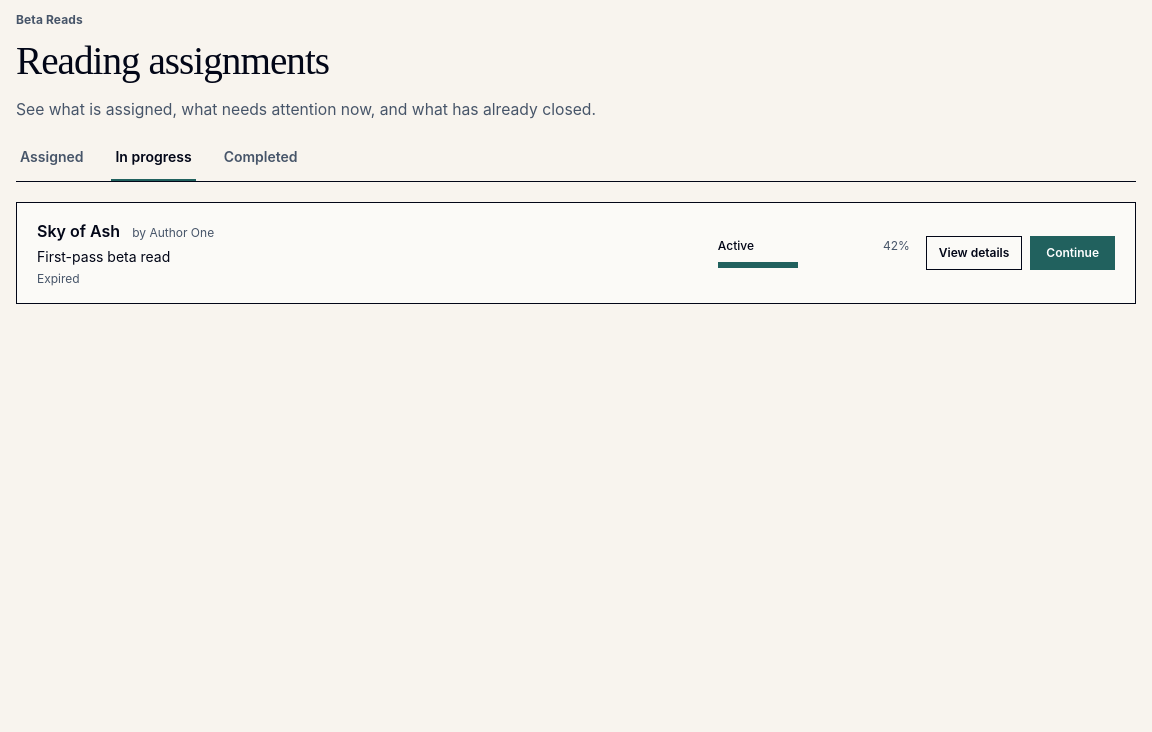
it: BetaReadsPage › shows author questions and the final-feedback completion gate on active assignments
Click the button "View details" at [974, 253], box [926,236,1022,270]
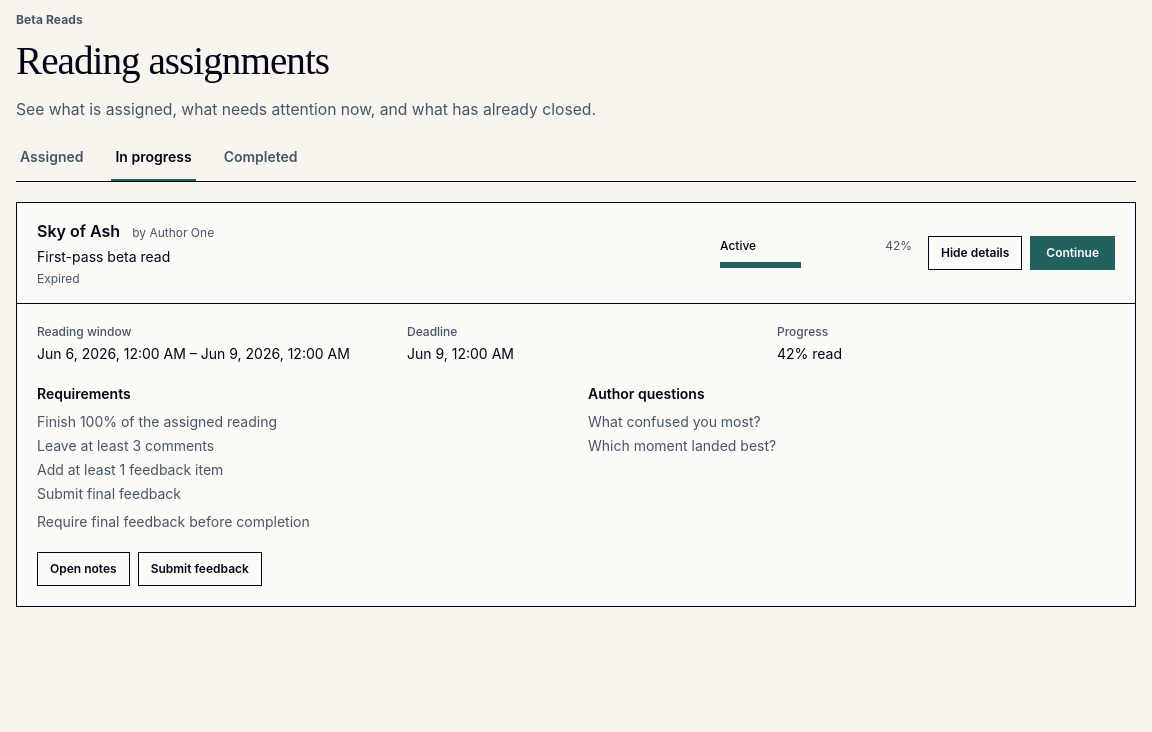
Check: the text "Author questions" is shown, box [588,385,705,402]
Check: the text "What confused you most?" is shown, box [588,413,761,430]
Check: the text "Which moment landed best?" is shown, box [588,437,776,454]
